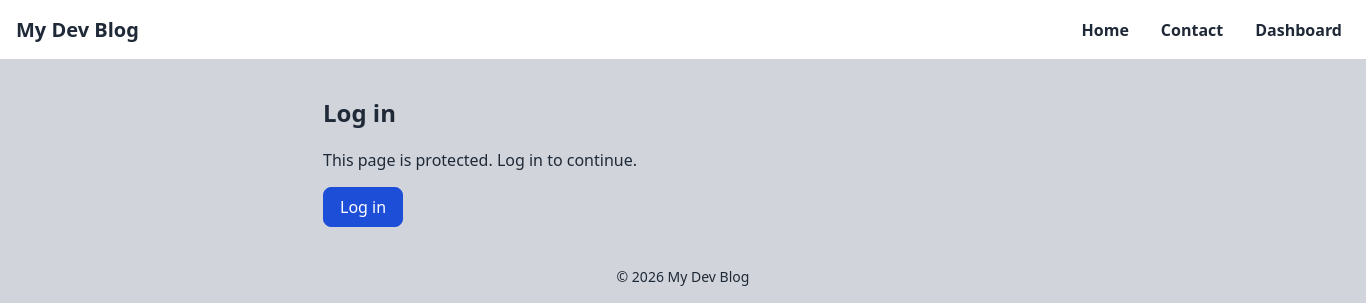
route protection › opens the protected page after signing in
The image size is (1366, 303).
Click the button "Log in".
click(363, 207)  # box x1=323 y1=187 x2=403 y2=227
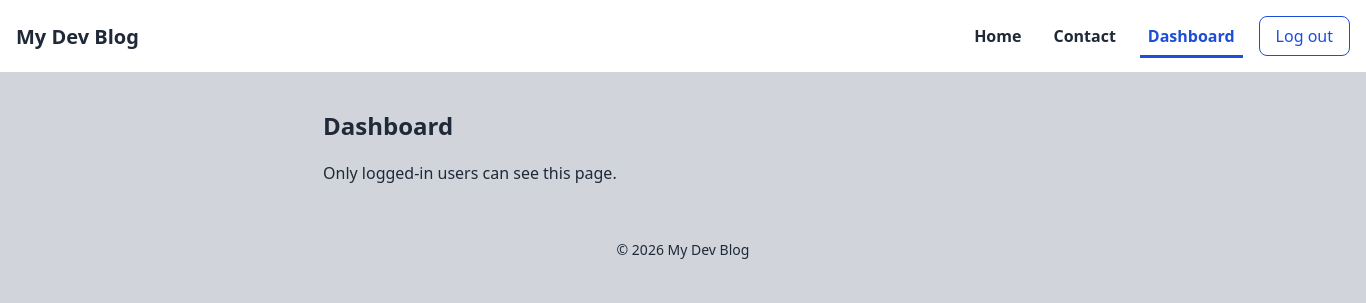
Result: the heading "Dashboard" is shown at x1=323 y1=109 x2=453 y2=142
